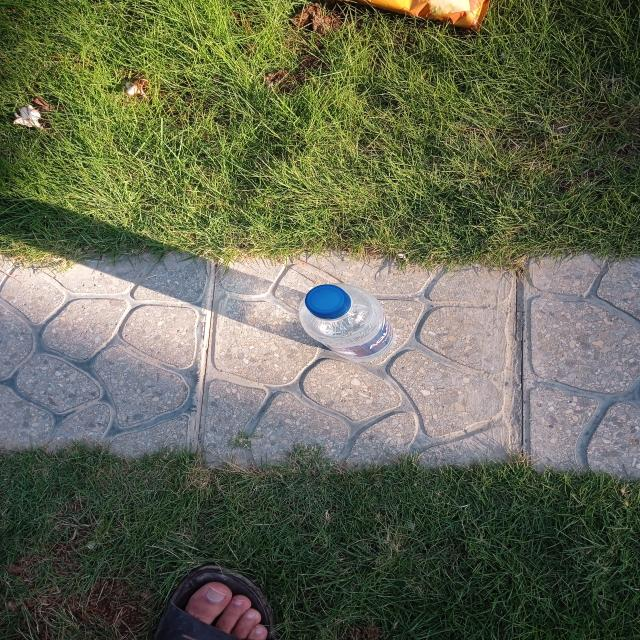Plastic: (299, 278, 392, 364)
